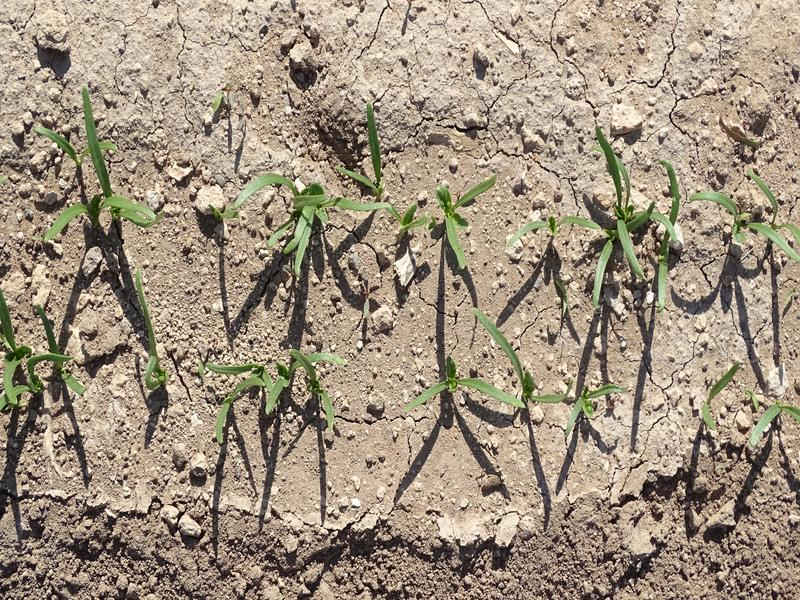Espinaca: (251, 105, 431, 275), (417, 312, 635, 429), (571, 122, 682, 307), (41, 97, 154, 225), (208, 349, 341, 439), (690, 170, 794, 269), (1, 293, 67, 415), (436, 168, 509, 277), (142, 268, 164, 389), (700, 366, 736, 430), (751, 400, 800, 445)
